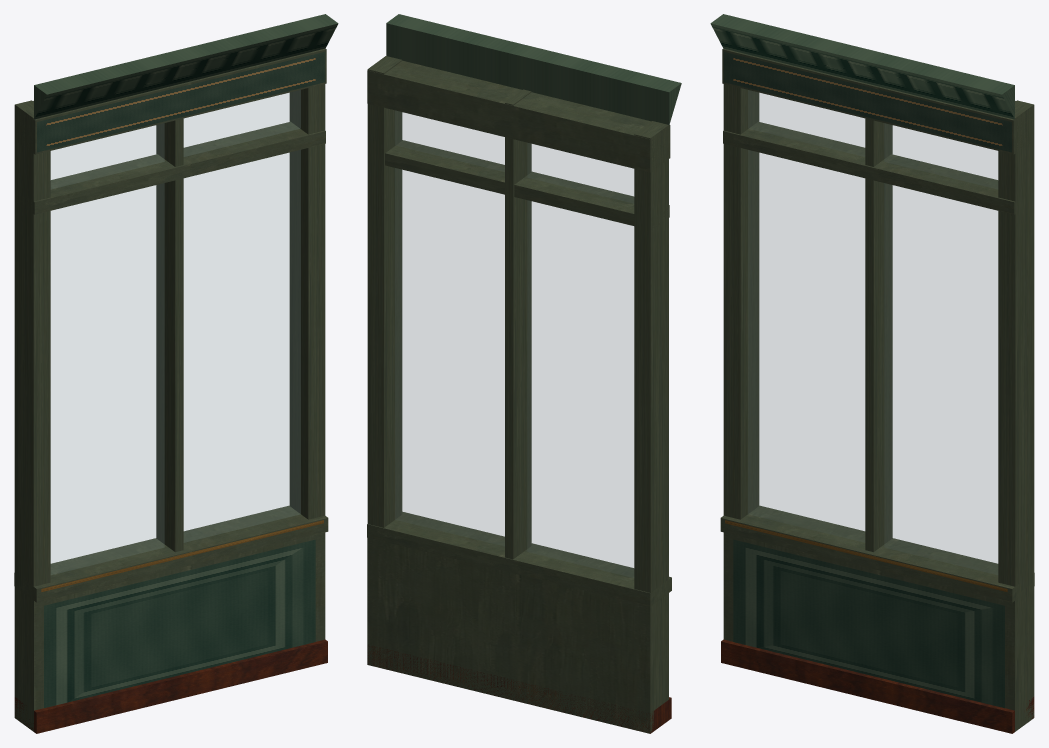
File: city1880-shop-window.gltf
The picture shows the model from 3 angles, left to right: view 1: azimuth 30°, elevation 25°; view 2: azimuth 150°, elevation 25°; view 3: azimuth 330°, elevation 25°; orthographic projection. The views are drawn at different scales.
Parts seen in each view (by area): view 1: Storefront display bay; view 2: Storefront display bay; view 3: Storefront display bay.
Part boxes in pixels (<box>): Storefront display bay: <box>14,14,338,733</box>; Storefront display bay: <box>367,14,681,733</box>; Storefront display bay: <box>710,14,1034,733</box>.
Bounding box in the file's own units: 1 × 2.12 × 0.1935.
Materials: 3 (2 with a texture image).
